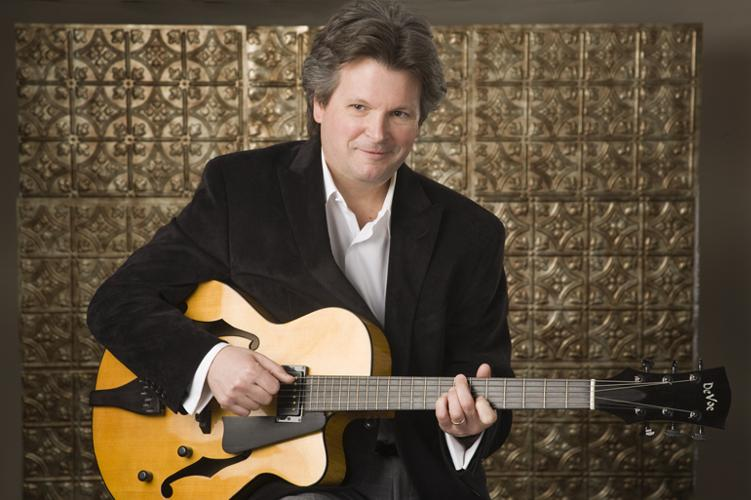person: (86, 6, 515, 500)
